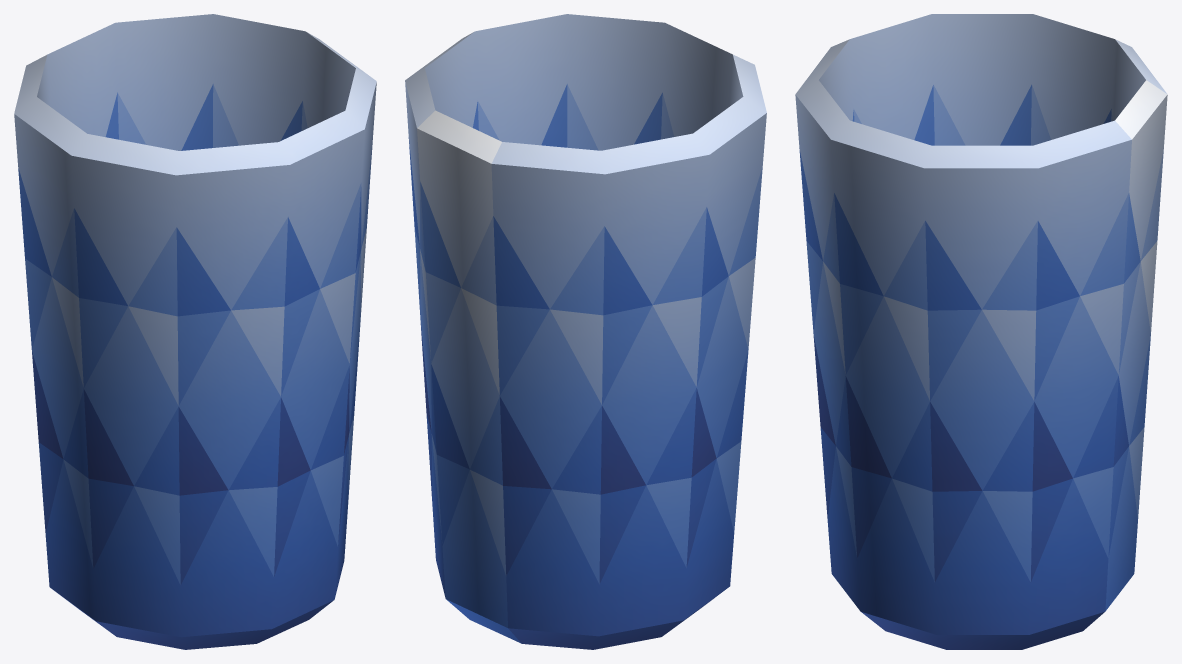
The model's file is m_Glass06.fbx.
3 views of the same model, side by side, from view 1: azimuth 30°, elevation 25°; view 2: azimuth 150°, elevation 25°; view 3: azimuth 270°, elevation 25° (orthographic).
Parts seen in each view (by area): view 1: m_Glass06; view 2: m_Glass06; view 3: m_Glass06.
Part boxes in pixels (<box>): m_Glass06: <box>14,14,376,649</box>; m_Glass06: <box>405,14,766,649</box>; m_Glass06: <box>795,14,1167,649</box>.
Bounding box in the file's own units: 12.35 × 20 × 12.98.
